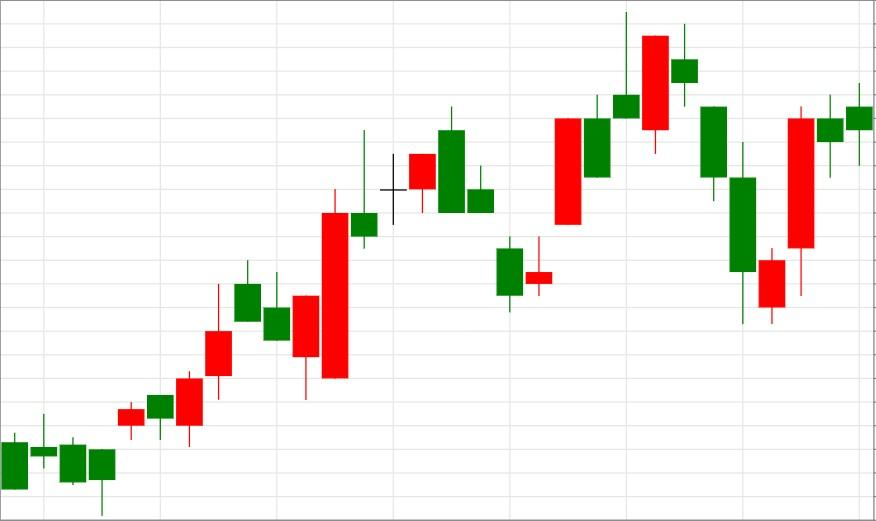bearish_engulfing_fall: (293, 107, 466, 401)
three_black_crows_fall: (496, 11, 757, 325)
